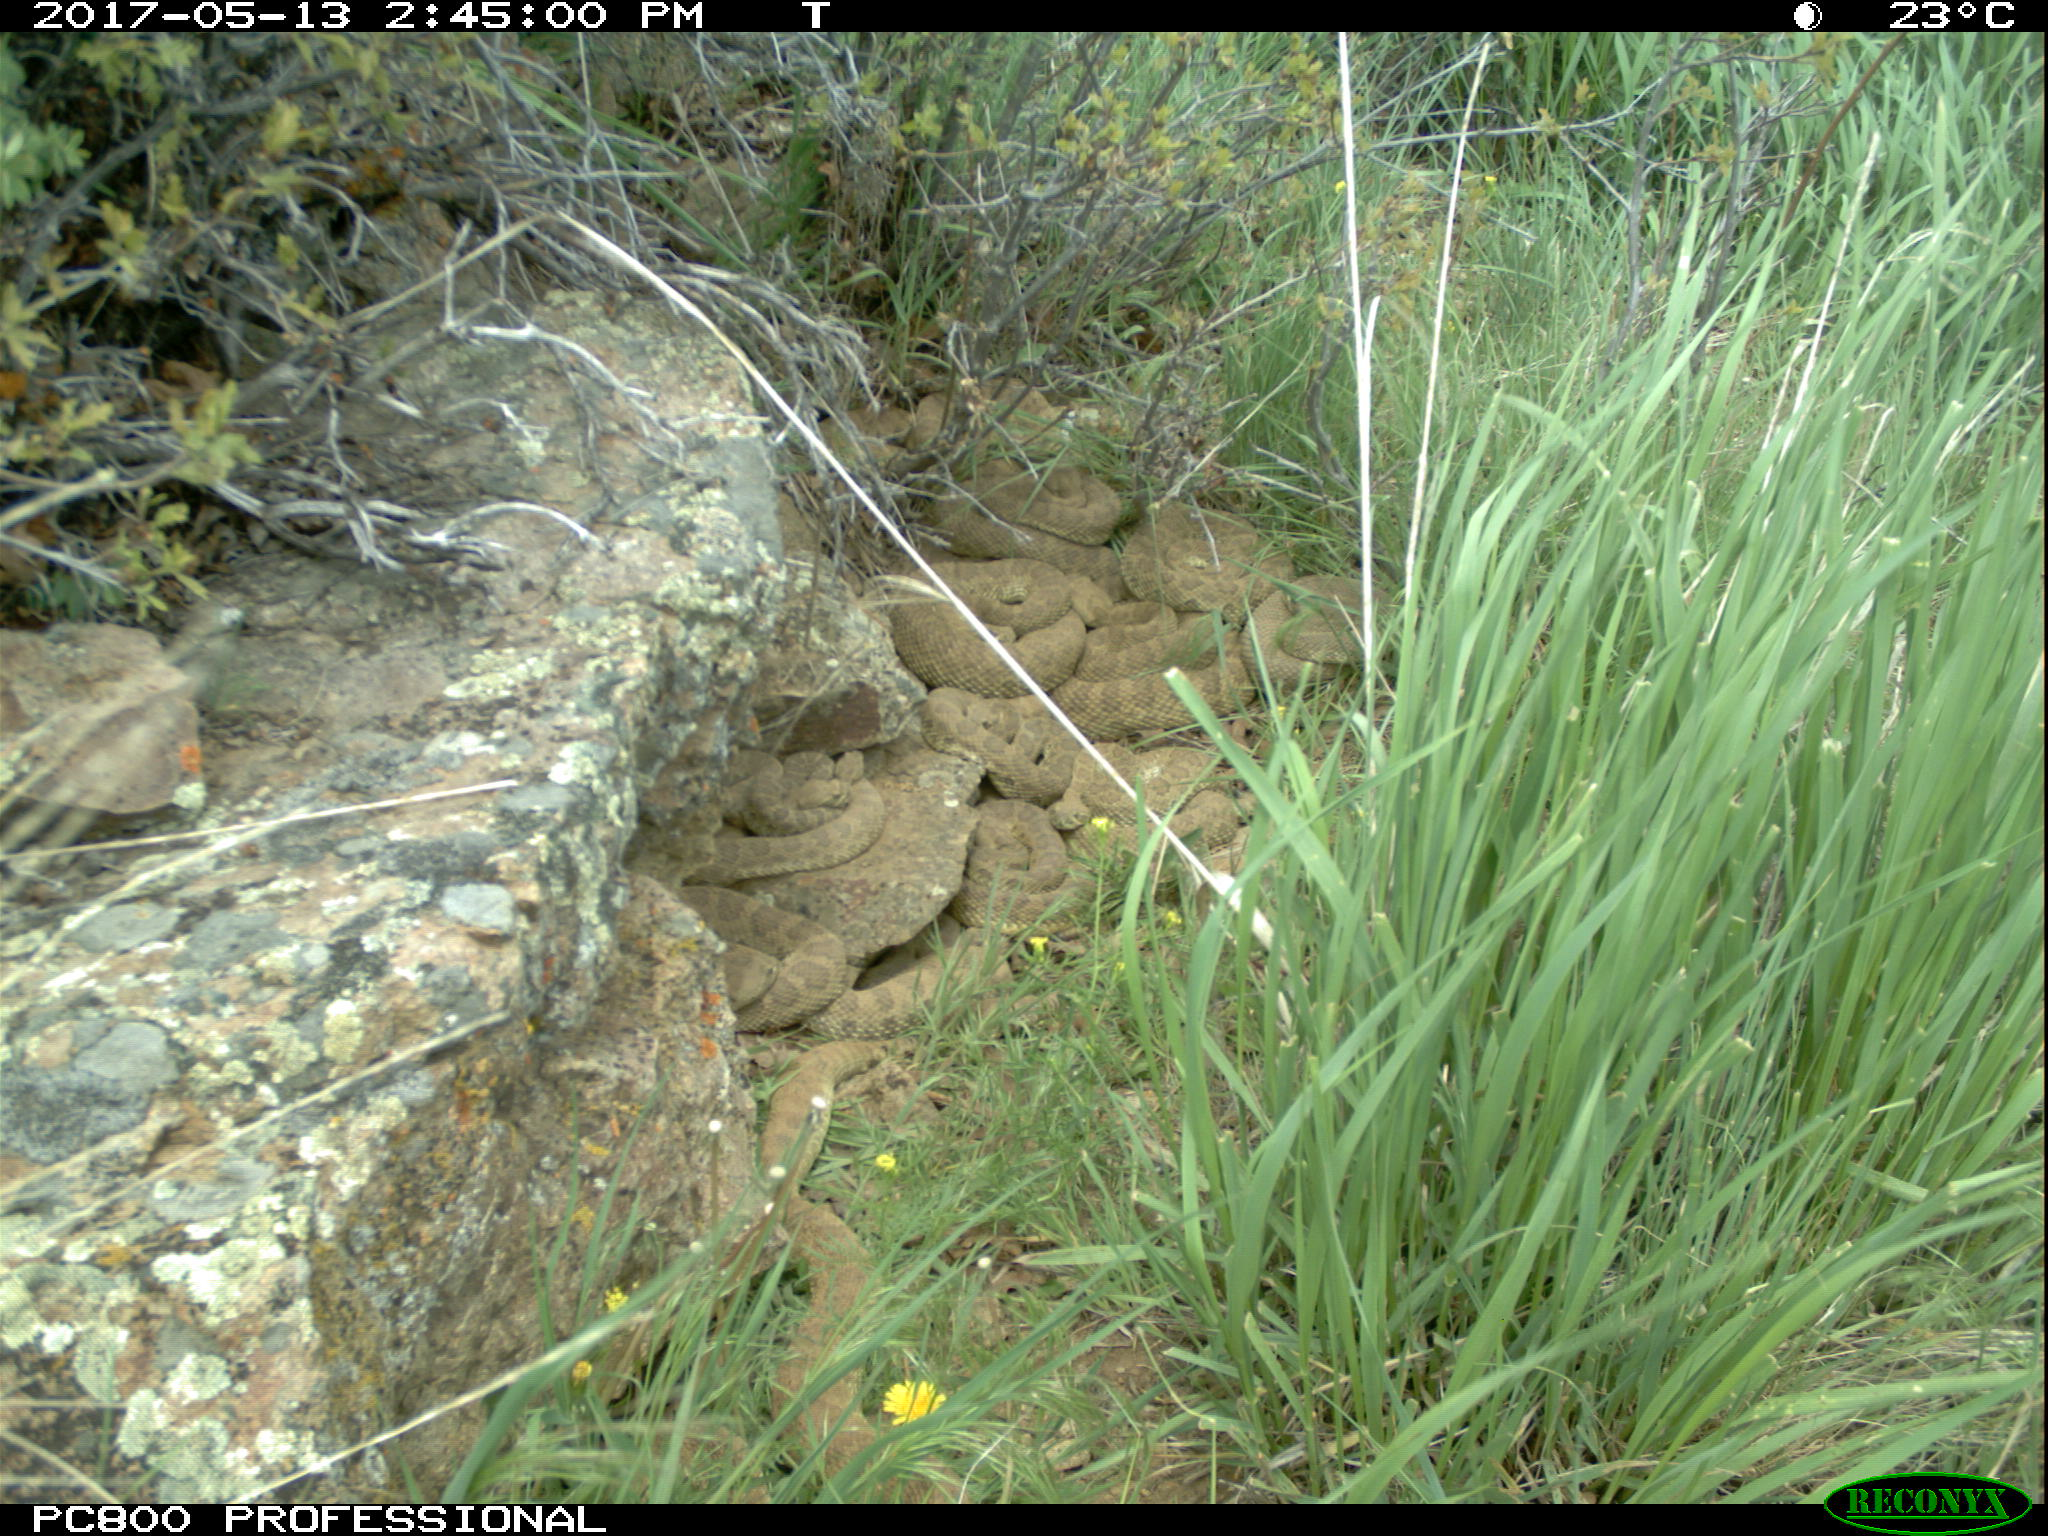snake: (756, 1041, 898, 1505), (684, 850, 839, 1025), (1076, 599, 1238, 737), (897, 571, 1080, 694), (930, 465, 1126, 571), (1238, 578, 1395, 695), (1077, 752, 1250, 858), (926, 691, 1072, 812), (1122, 507, 1285, 608), (961, 807, 1093, 931), (714, 739, 863, 836), (835, 945, 985, 1041)
